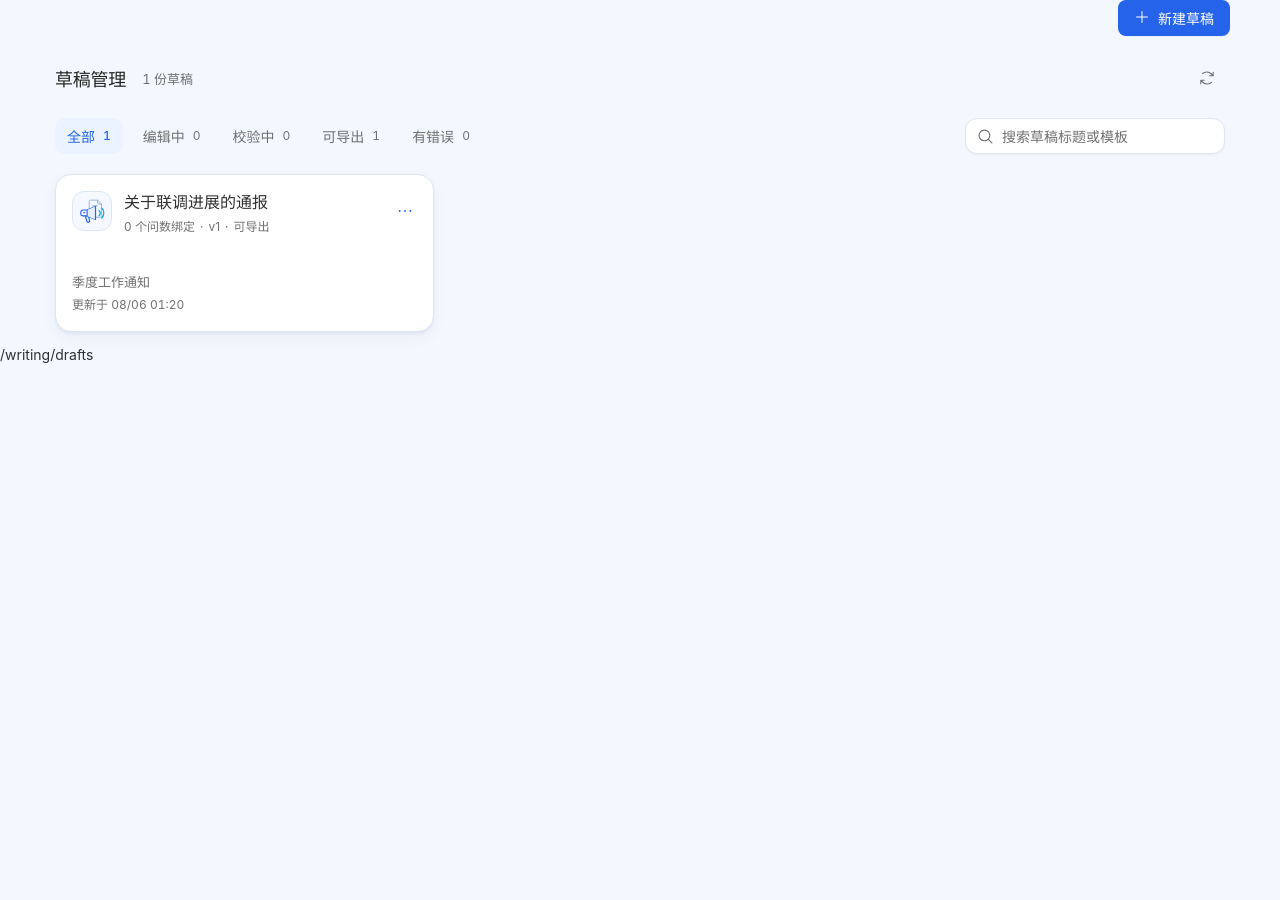
Test: DraftLibraryView › retains a failed rename and retries without losing the typed name
Step 1. Click the button named "管理草稿 关于联调进展的通报" → [405, 211], box 387,193 -> 423,229
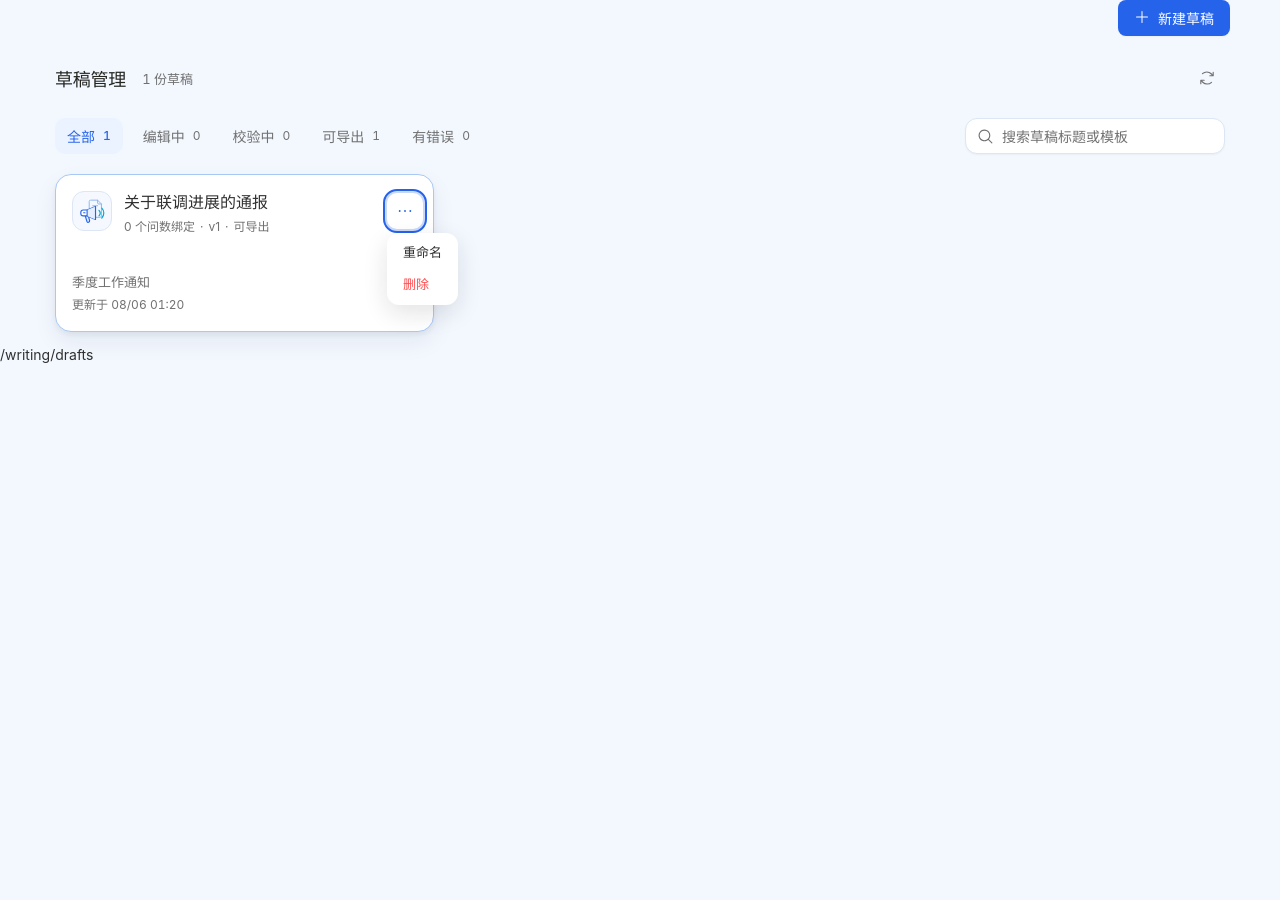
Step 2. Click the menu item "重命名" → [422, 252], box 403,244 -> 442,260
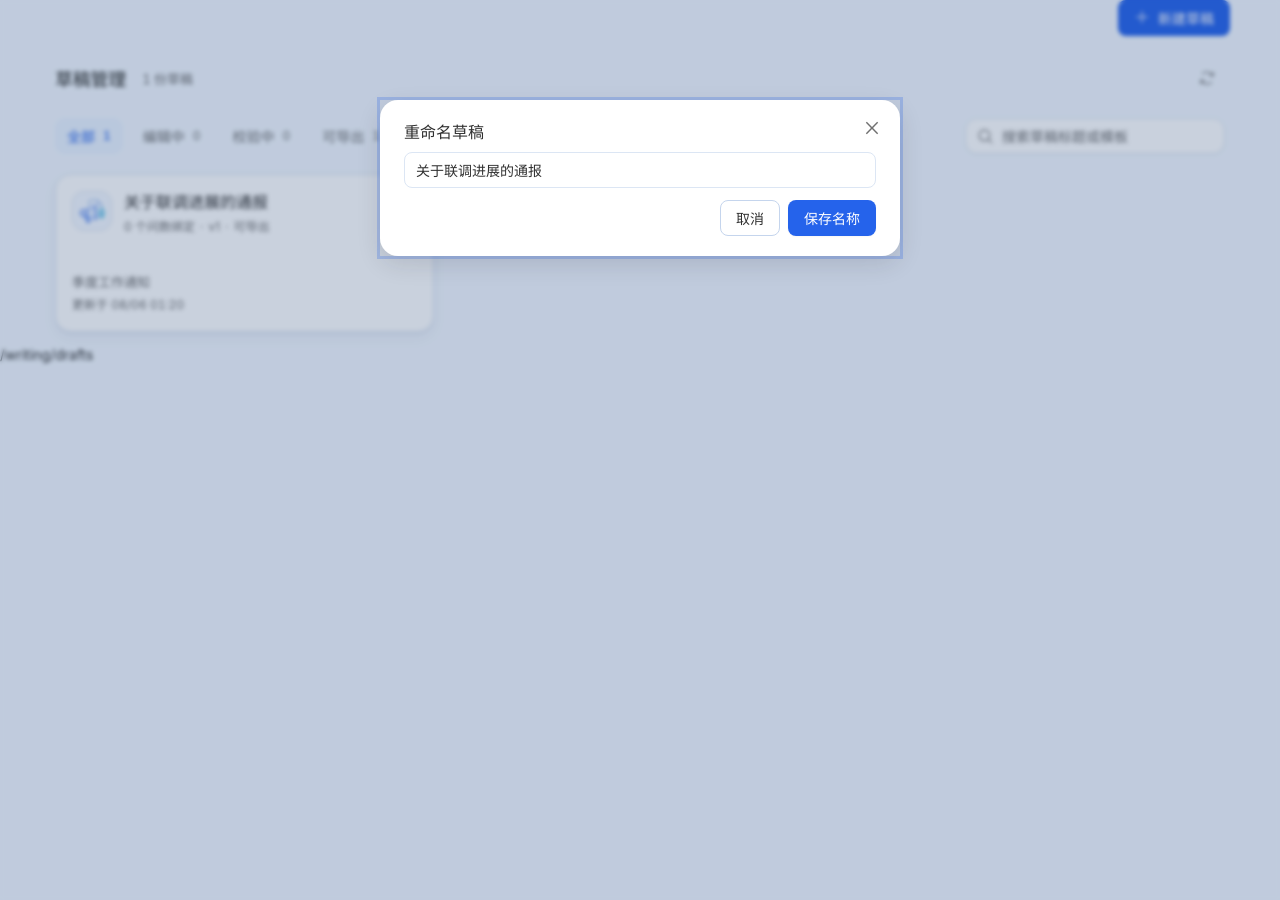
Step 3. Replace the text in the field named "草稿名称" with "重试通报" → [640, 170], box 404,152 -> 876,188
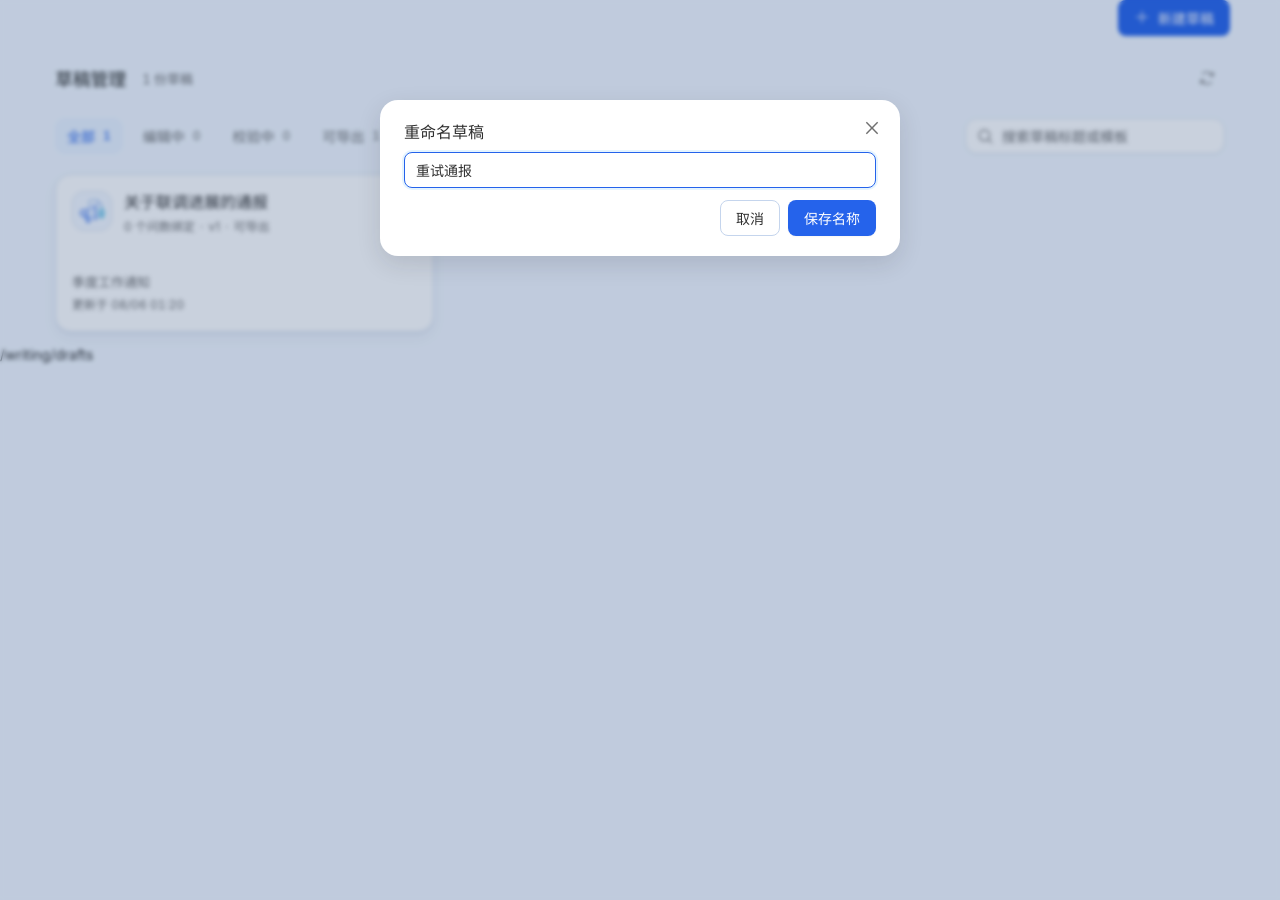
Step 4. Click the button "保存名称" → [832, 218], box 788,200 -> 876,236
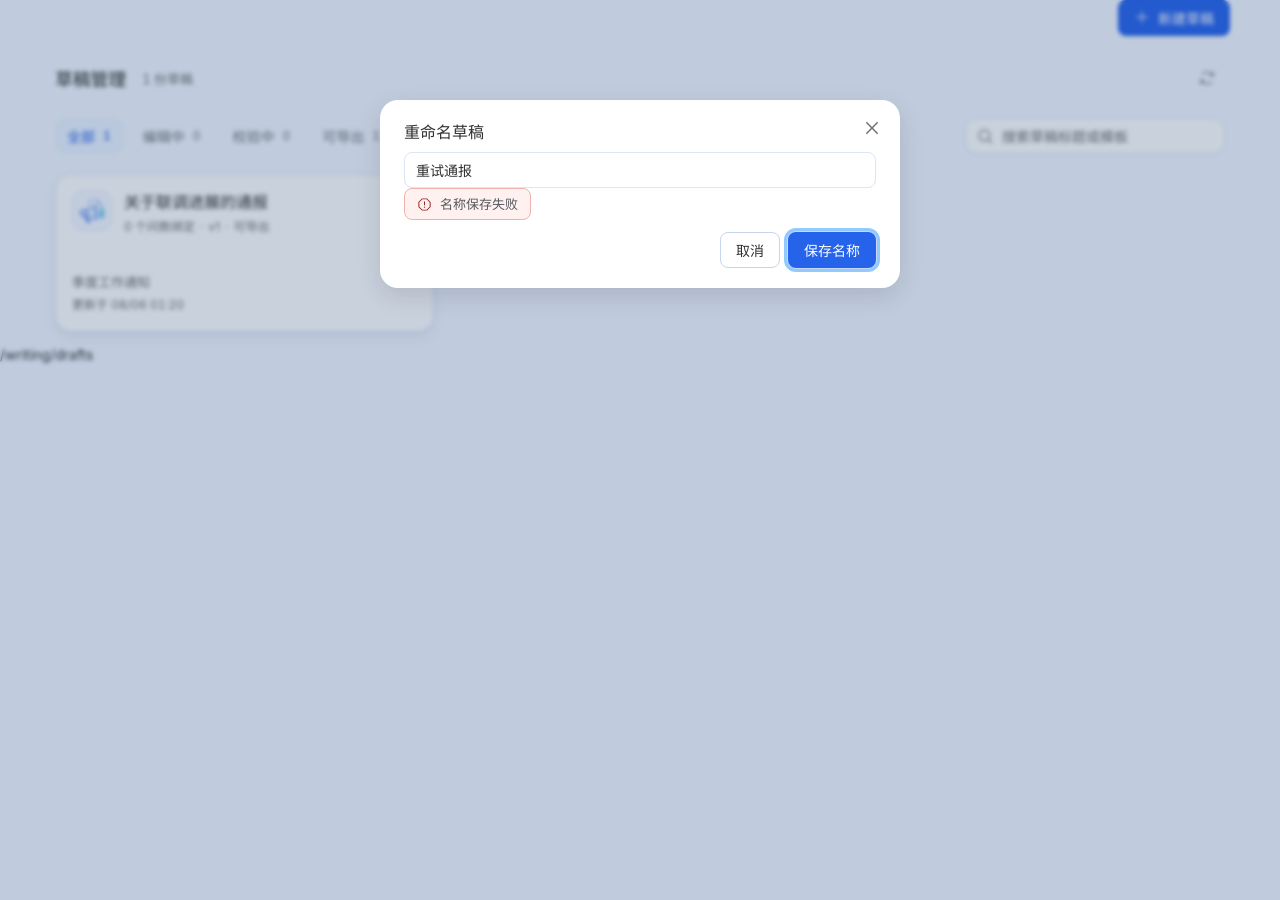
Expected: the button with aria-label "打开草稿 关于联调进展的通报" is shown, 56,175 -> 433,331
Expected: the text "名称保存失败" is shown, 440,195 -> 518,213
Step 5. Click the button "保存名称" → [832, 250], box 788,232 -> 876,268
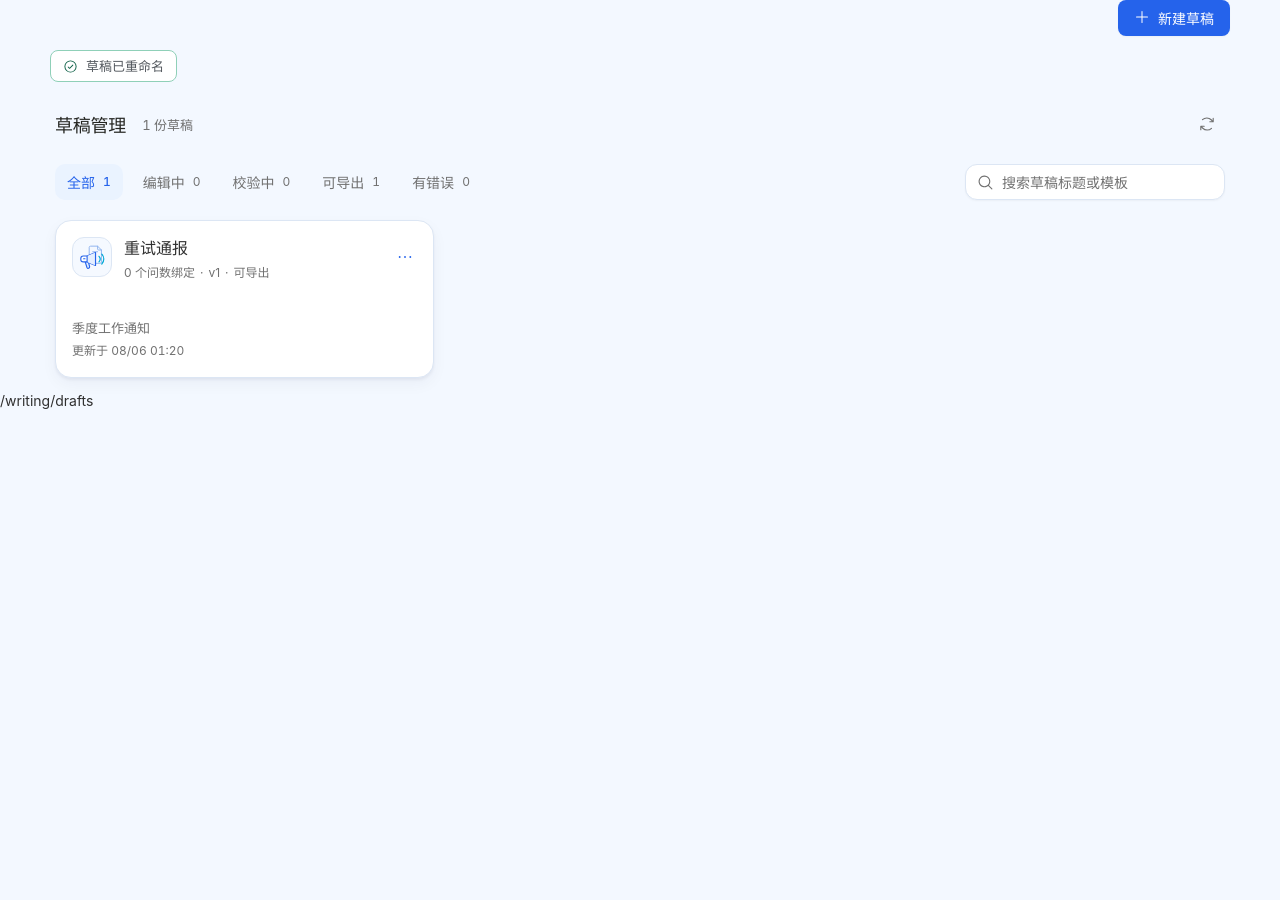
Expected: the button with aria-label "打开草稿 重试通报" is shown, 56,221 -> 433,377
